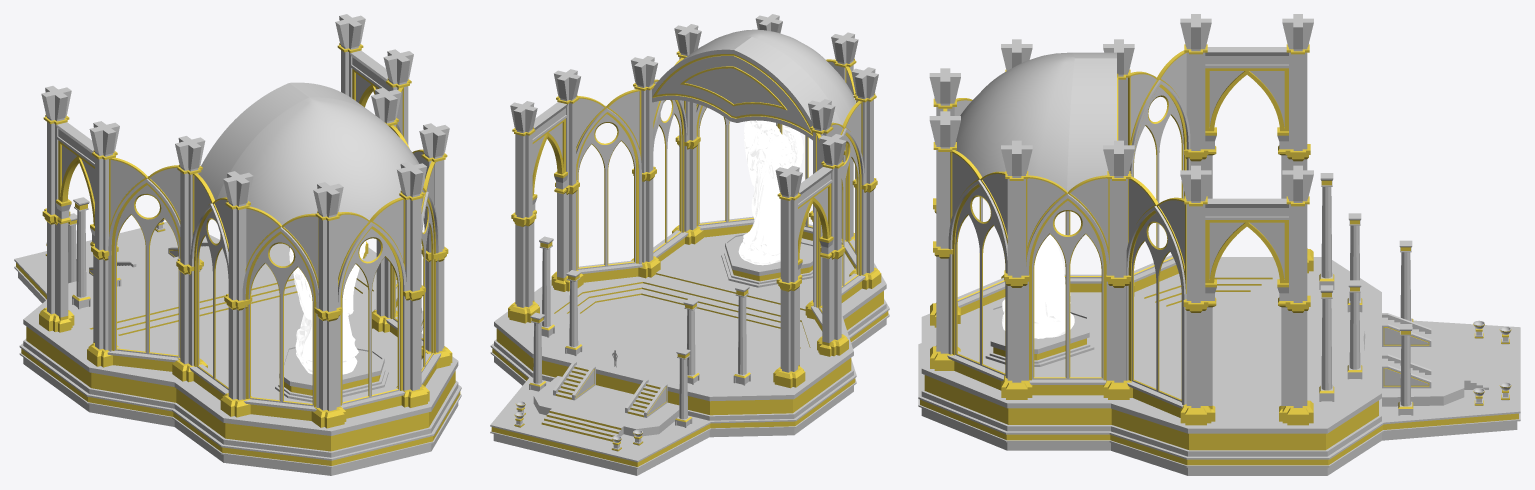
The model's file is elf_haven.glb.
3 views of the same model, side by side, from view 1: azimuth 30°, elevation 25°; view 2: azimuth 150°, elevation 25°; view 3: azimuth 270°, elevation 25° (orthographic). The views are drawn at different scales.
Visible parts, largest first — view 1: Object_8, Object_9, Object_11, Object_10, Object_12, Object_5, Object_13; view 2: Object_8, Object_9, Object_10, Object_11, Object_12, Object_5, Object_13; view 3: Object_8, Object_9, Object_10, Object_11, Object_12, Object_13, Object_5.
Part boxes in pixels (x1,y1,x2,y2): Object_8: (14, 86, 461, 475); Object_9: (155, 14, 444, 409); Object_11: (16, 114, 460, 465); Object_10: (154, 49, 449, 390); Object_12: (155, 43, 452, 418); Object_5: (289, 241, 365, 374); Object_13: (169, 78, 429, 407); Object_8: (490, 32, 889, 475); Object_9: (510, 29, 865, 427); Object_10: (514, 14, 812, 419); Object_11: (491, 58, 888, 466); Object_12: (508, 51, 861, 427); Object_5: (738, 120, 803, 265); Object_13: (532, 54, 812, 399); Object_8: (918, 14, 1520, 475); Object_9: (947, 52, 1509, 415); Object_10: (929, 52, 1511, 407); Object_11: (920, 44, 1518, 465); Object_12: (943, 108, 1511, 425); Object_13: (930, 73, 1429, 425); Object_5: (1002, 234, 1074, 338).
Bounding box in the file's own units: 34.26 × 30.35 × 49.94.
